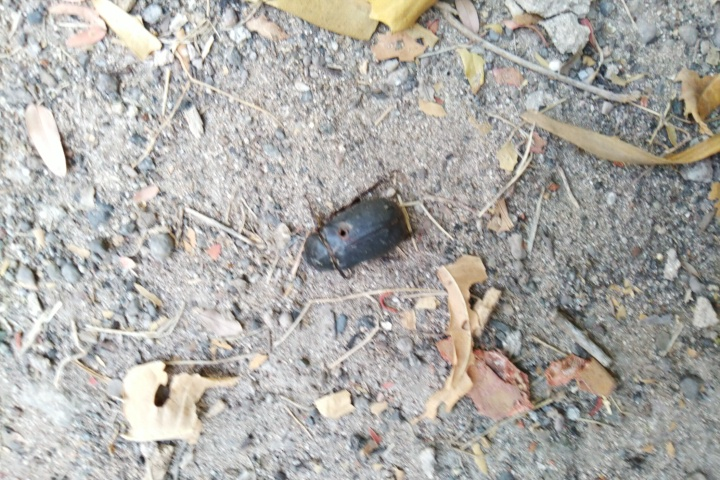INS-A: (288, 174, 423, 280)
